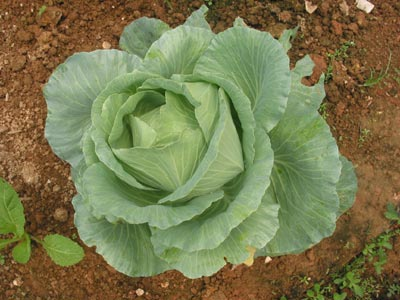cabbage: (41, 4, 358, 279)
